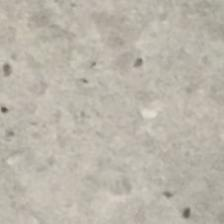Non_Crack: (7, 6, 224, 224)
